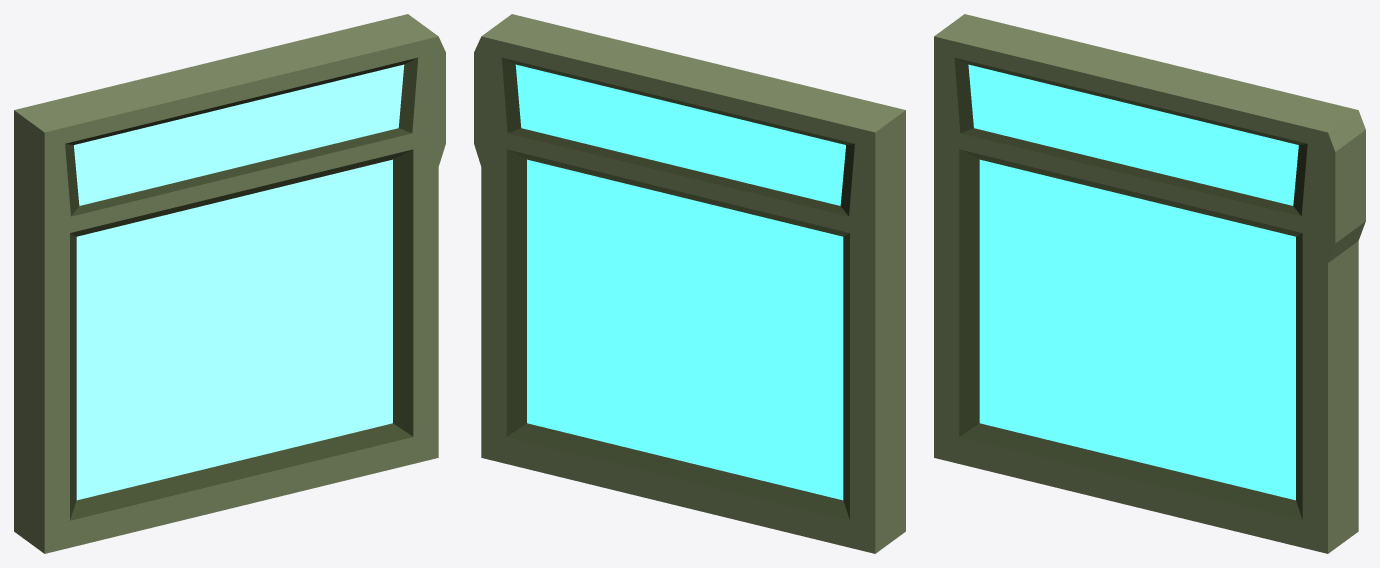
The model's file is Cartucho Cyan Glow.fbx.
3 views of the same model, side by side, from view 1: azimuth 30°, elevation 25°; view 2: azimuth 150°, elevation 25°; view 3: azimuth 330°, elevation 25° (orthographic).
Parts seen in each view (by area): view 1: Cartucho Normal; view 2: Cartucho Normal; view 3: Cartucho Normal.
Part boxes in pixels (<box>): Cartucho Normal: <box>14,14,445,553</box>; Cartucho Normal: <box>474,14,905,553</box>; Cartucho Normal: <box>934,14,1365,553</box>.
Bounding box in the file's own units: 129 × 17 × 129.
